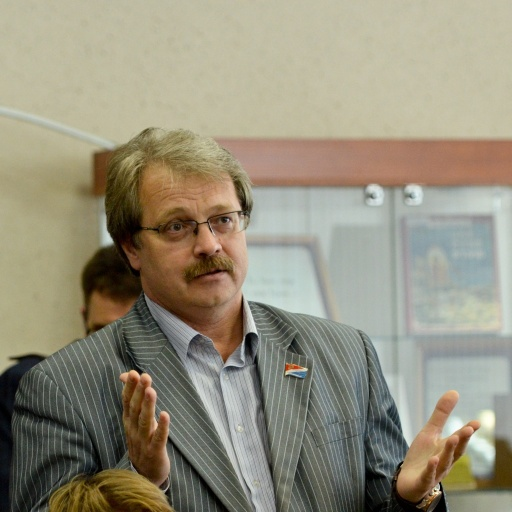hand: (395, 389, 492, 503), (119, 367, 173, 486)
